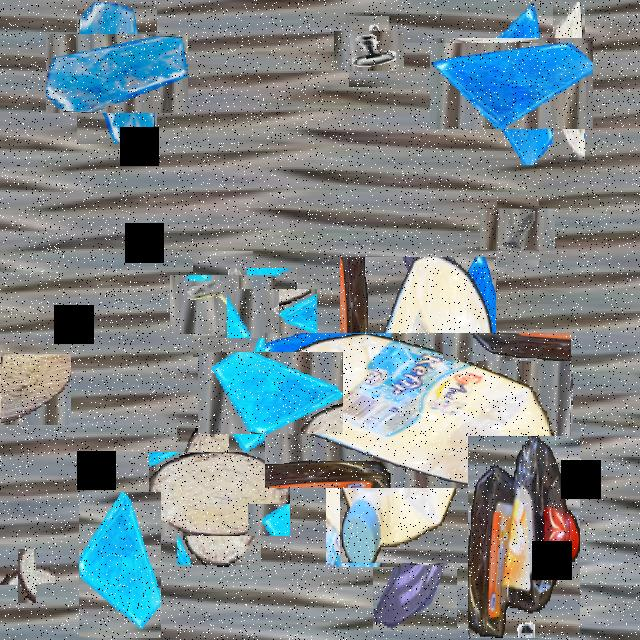glass: (448, 20, 576, 147), (213, 336, 327, 450), (373, 489, 457, 638), (61, 18, 172, 128), (79, 492, 161, 638), (326, 432, 402, 567)
metal: (182, 262, 264, 346), (481, 362, 562, 442), (237, 278, 307, 348), (489, 200, 547, 259), (341, 24, 397, 79)
plastic: (302, 295, 534, 526), (468, 436, 580, 638)
wood: (162, 438, 276, 550), (553, 2, 585, 162), (0, 354, 71, 425), (9, 558, 46, 594)
